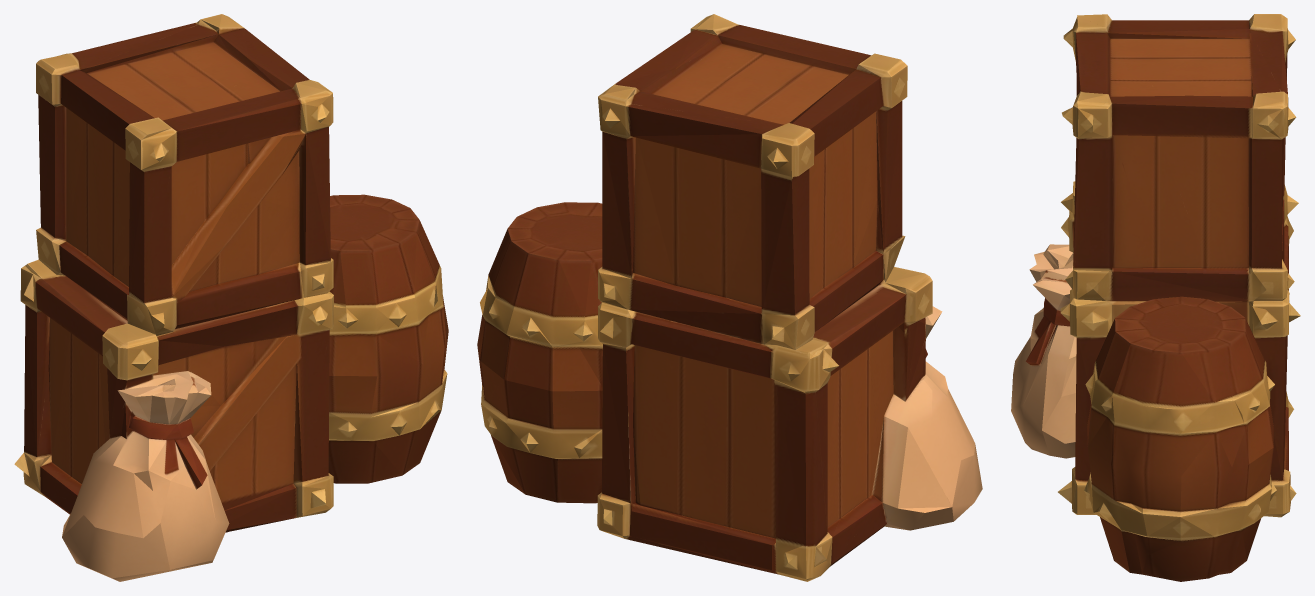
File: TWN_PRP_crates_A.glb
3 views of the same model, side by side, from view 1: azimuth 30°, elevation 25°; view 2: azimuth 150°, elevation 25°; view 3: azimuth 270°, elevation 25° (orthographic). The views are drawn at different scales.
Parts seen in each view (by area): view 1: Mesh_0; view 2: Mesh_0; view 3: Mesh_0.
Part boxes in pixels (bbox=[...]): Mesh_0: bbox=[14, 14, 448, 581]; Mesh_0: bbox=[477, 14, 982, 581]; Mesh_0: bbox=[1011, 14, 1300, 581].
Size of the model in its own units: 1.9 by 1.88 by 1.19.
Materials: 1 (1 with a texture image).
